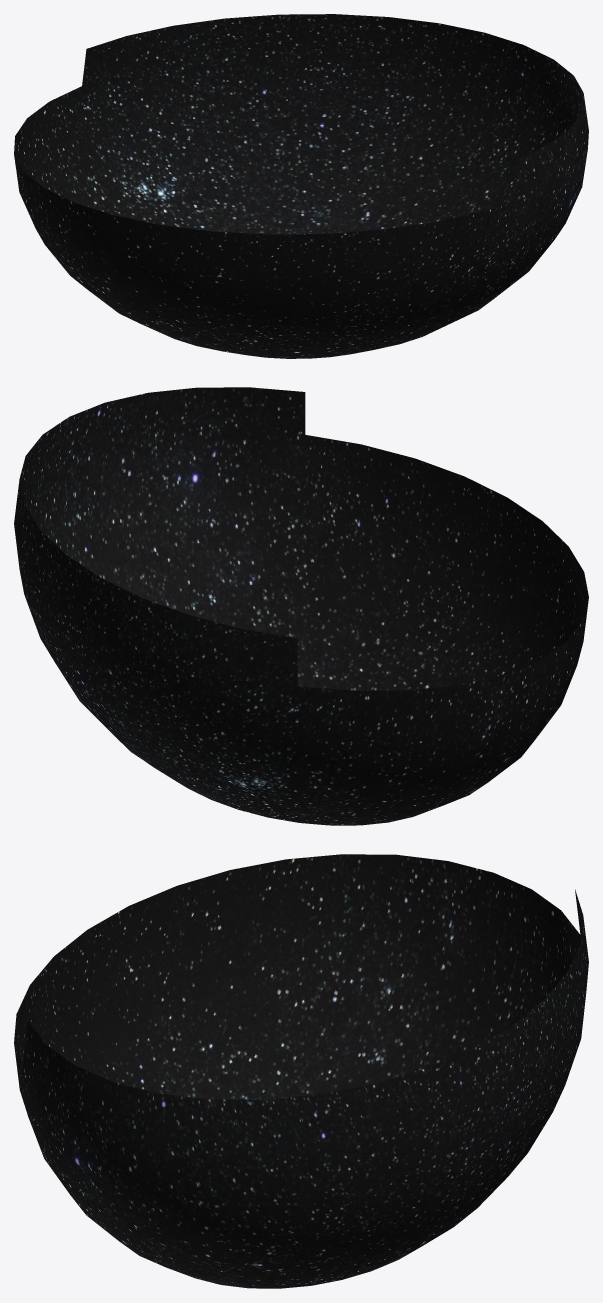
File: nightSky.obj
The picture shows the model from 3 angles, top to bottom: view 1: azimuth 30°, elevation 25°; view 2: azimuth 150°, elevation 25°; view 3: azimuth 270°, elevation 25°; orthographic projection. The views are drawn at different scales.
Visible parts, largest first — view 1: Sphere; view 2: Sphere; view 3: Sphere.
Part boxes in pixels (left/top/right/bottom): Sphere: left=14, top=14, right=588, bottom=358; Sphere: left=14, top=387, right=588, bottom=825; Sphere: left=14, top=854, right=588, bottom=1288.
Bounding box in the file's own units: 147910 × 69270 × 122311.
Materials: 1 (1 with a texture image).
